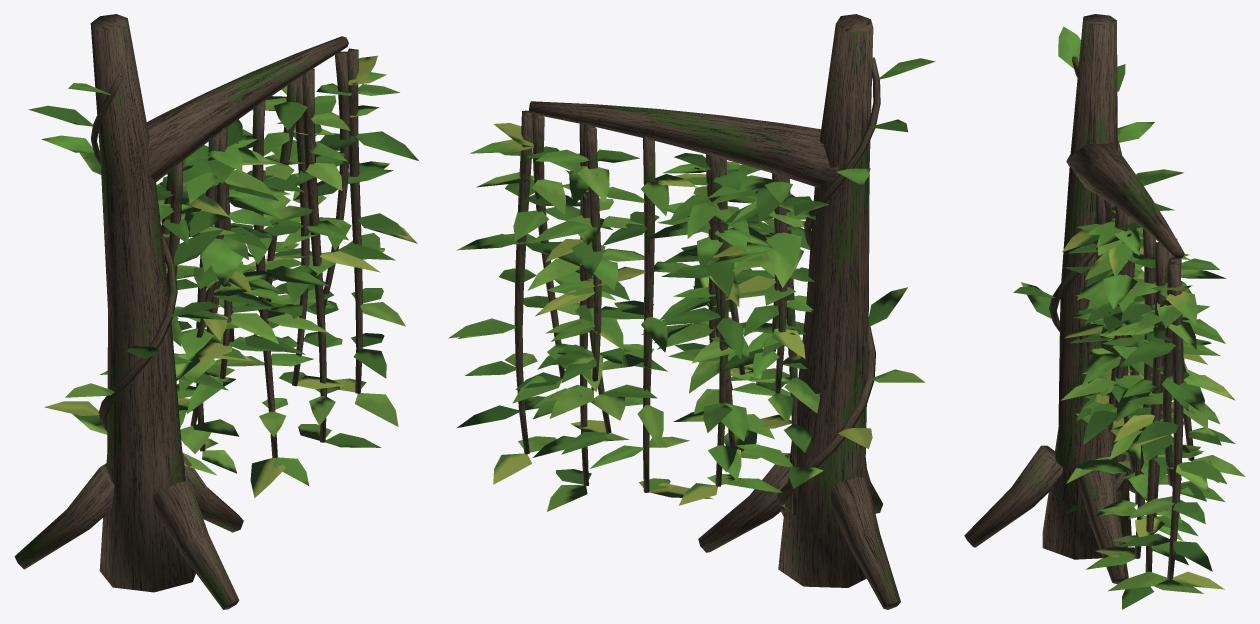
The model's file is Vine_Hanging.glb.
3 renders of one model, left to right at view 1: azimuth 30°, elevation 25°; view 2: azimuth 150°, elevation 25°; view 3: azimuth 270°, elevation 25°, orthographic. The views are drawn at different scales.
Visible parts, largest first — view 1: Vine_Hanging__Bark, Vine_Hanging__Leaves; view 2: Vine_Hanging__Bark, Vine_Hanging__Leaves; view 3: Vine_Hanging__Bark, Vine_Hanging__Leaves.
Part boxes in pixels (x1=…): Vine_Hanging__Bark: x1=14, y1=14, x2=362, y2=609; Vine_Hanging__Leaves: x1=28, y1=55, x2=418, y2=515; Vine_Hanging__Bark: x1=514, y1=14, x2=900, y2=609; Vine_Hanging__Leaves: x1=448, y1=58, x2=935, y2=511; Vine_Hanging__Bark: x1=964, y1=14, x2=1194, y2=584; Vine_Hanging__Leaves: x1=1013, y1=26, x2=1245, y2=609.
Bounding box in the file's own units: 14.66 × 19.14 × 9.56.
2 materials, 2 textured.
